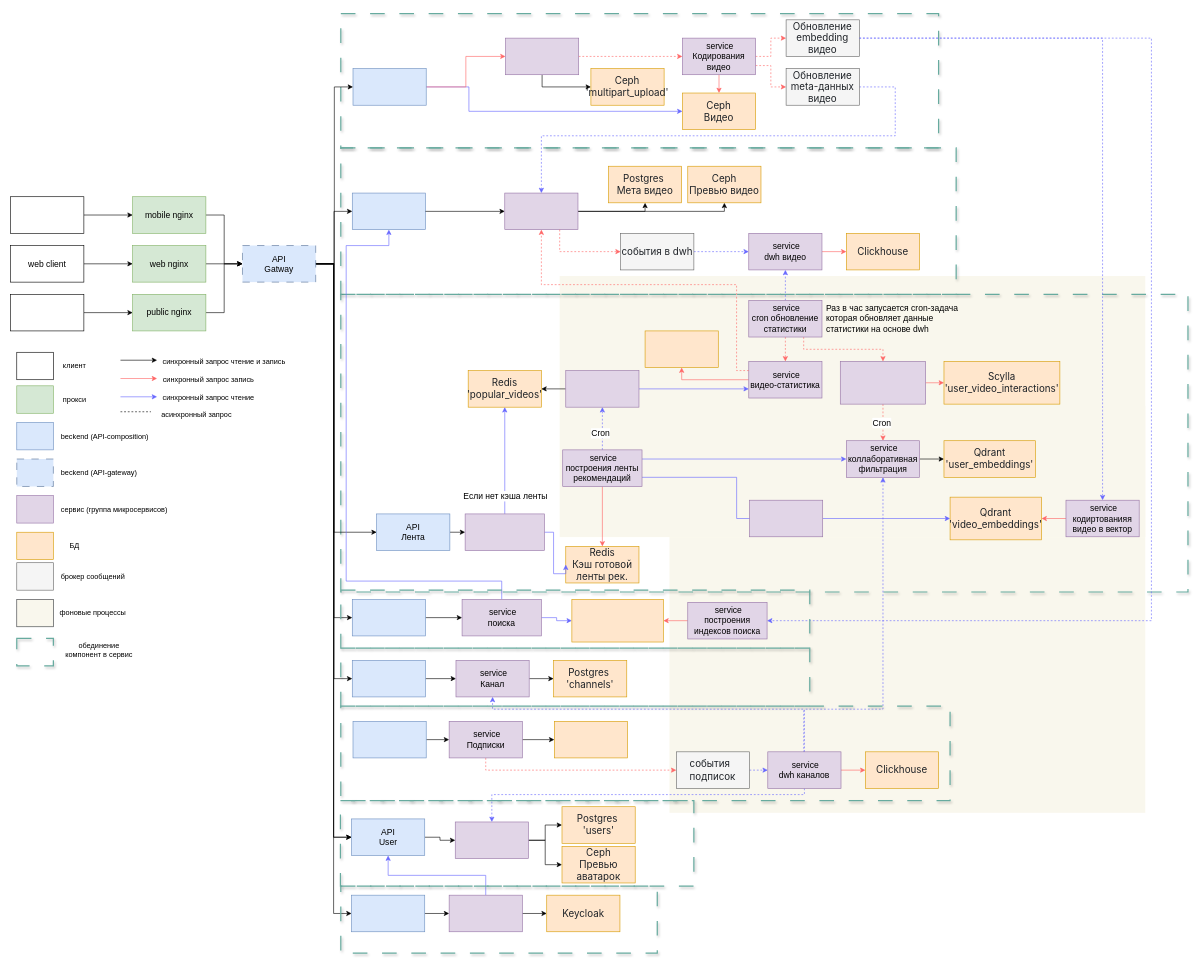
Image size: 1203x968. Some labels were removed from this diagram. Here are the shapes that lost their labels. From the top down, the centre of each, then its label:
(542,56): service Видео-upload
(389,86): API Видео
(47,214): mobile client
(388,211): API Видео-meta
(541,211): service Видео-meta
(47,312): public client
(681,349): Scylla 'video_statistics'
(602,388): service популярных видео
(883,382): service статистики просмотров by user
(504,532): service отдачи ленты рекомендаций
(786,518): service контентная фильтрация
(388,617): API Поиск
(617,620): Qdrant ' video_search_index '
(388,678): API Каналы
(389,739): API Подписки
(591,739): Postgres ' subscribtions '
(491,840): service User
(388,913): API Авторизация
(485,913): service Авторизации
